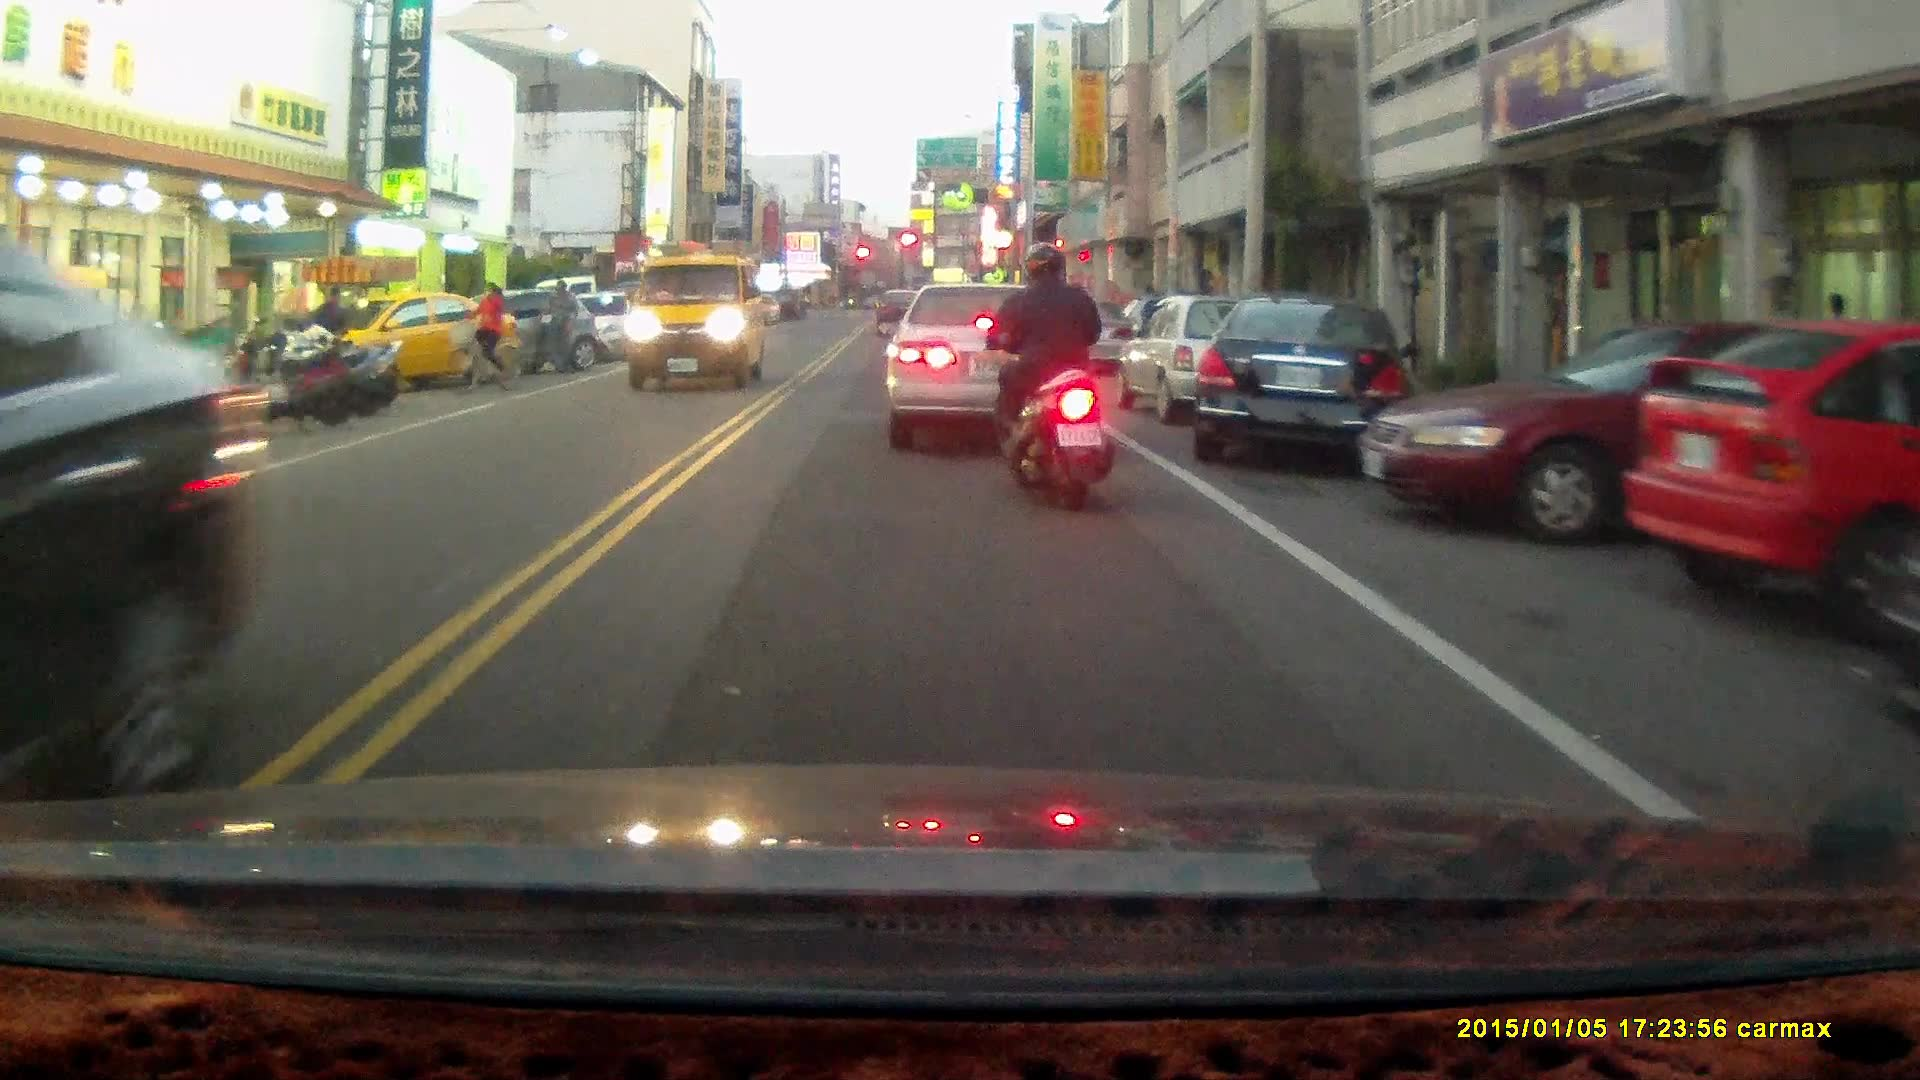pedestrian: (545, 274, 581, 372), (313, 283, 350, 370)
rider: (973, 235, 1120, 513), (443, 279, 521, 397)
vehicle: (1, 240, 266, 804), (1370, 312, 1846, 547), (1626, 315, 1920, 630), (1188, 291, 1416, 465), (889, 271, 1095, 435), (1107, 290, 1295, 425), (625, 244, 763, 390), (339, 289, 524, 386)
